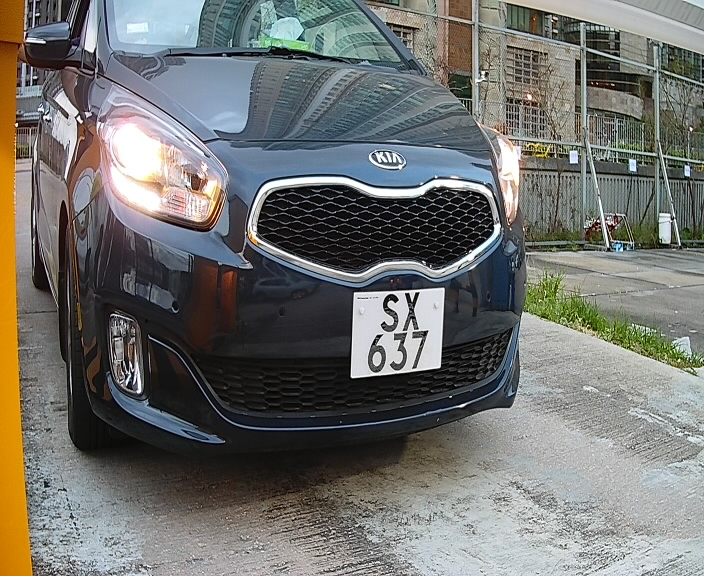License Plate: (343, 279, 452, 388)
